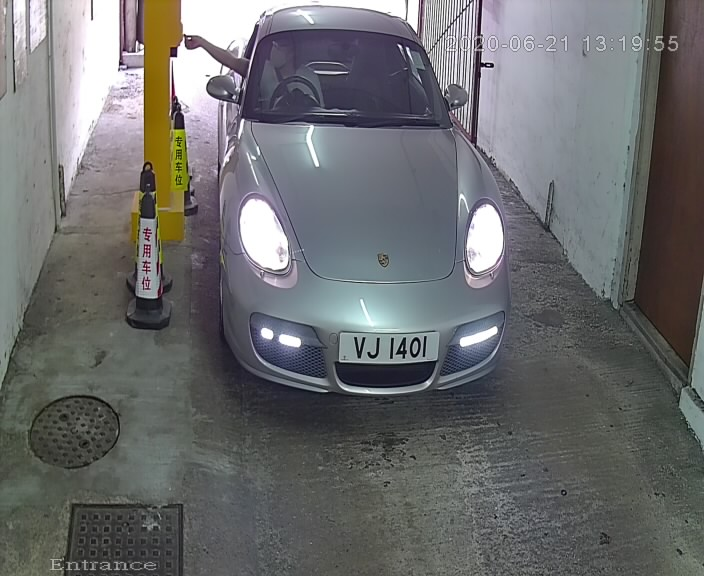privatecar: (193, 1, 525, 436)
